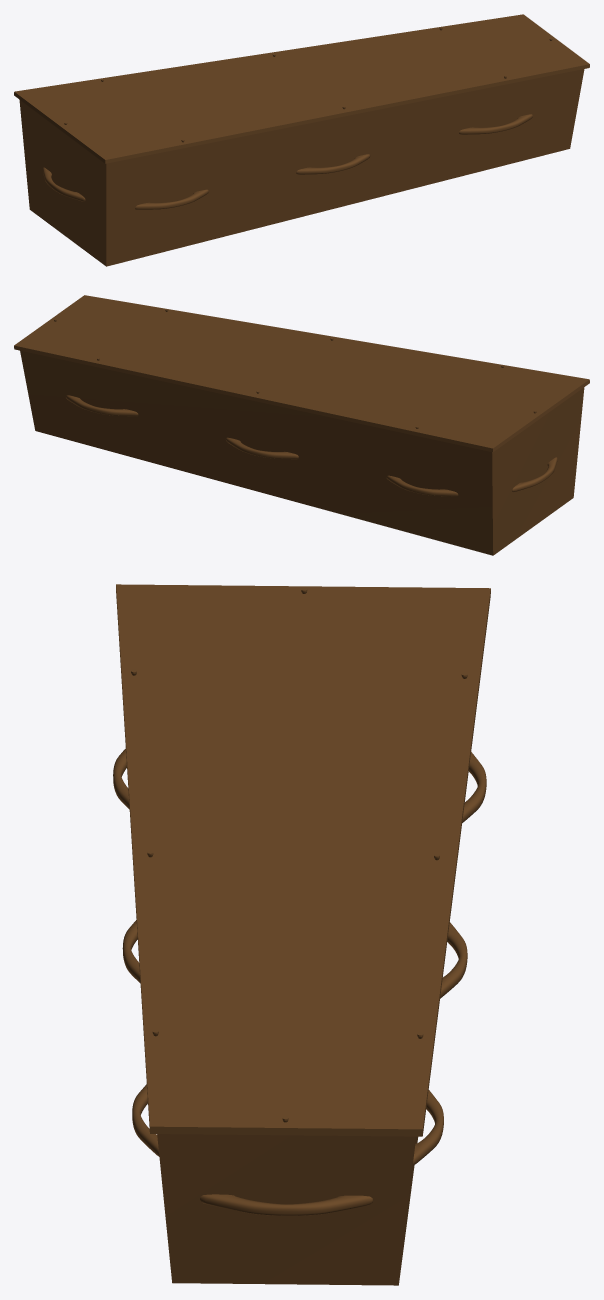
The model's file is puur2.glb.
3 renders of one model, top to bottom at view 1: azimuth 30°, elevation 25°; view 2: azimuth 150°, elevation 25°; view 3: azimuth 270°, elevation 25°, orthographic. The views are drawn at different scales.
Parts seen in each view (by area): view 1: Bot_leftSide_Bot_Cube.004_Cube.001; view 2: Bot_leftSide_Bot_Cube.004_Cube.001; view 3: Bot_leftSide_Bot_Cube.004_Cube.001.
Boxes of the visible parts, x1,y1,x2,y2 form: Bot_leftSide_Bot_Cube.004_Cube.001: (14, 14, 589, 266); Bot_leftSide_Bot_Cube.004_Cube.001: (14, 295, 589, 555); Bot_leftSide_Bot_Cube.004_Cube.001: (113, 584, 490, 1285).
Size of the model in its own units: 3.05 by 0.6832 by 0.9939.
